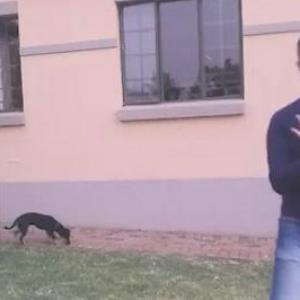follow_hand: (284, 100, 299, 162)
